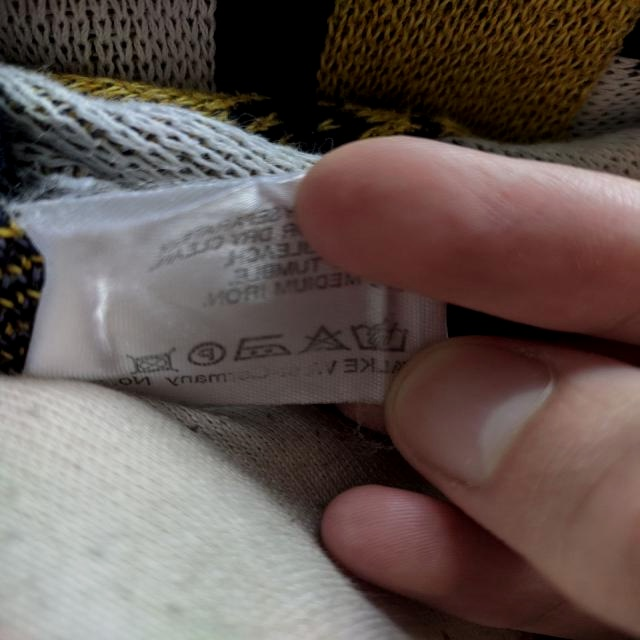DN_bleach: (298, 325, 346, 354)
DN_tumble_dry: (122, 343, 179, 374)
dry_clean_any_solvent_except_trichloroethylene: (185, 335, 227, 367)
hand_wash: (348, 313, 409, 354)
iron_medium: (233, 332, 288, 361)
